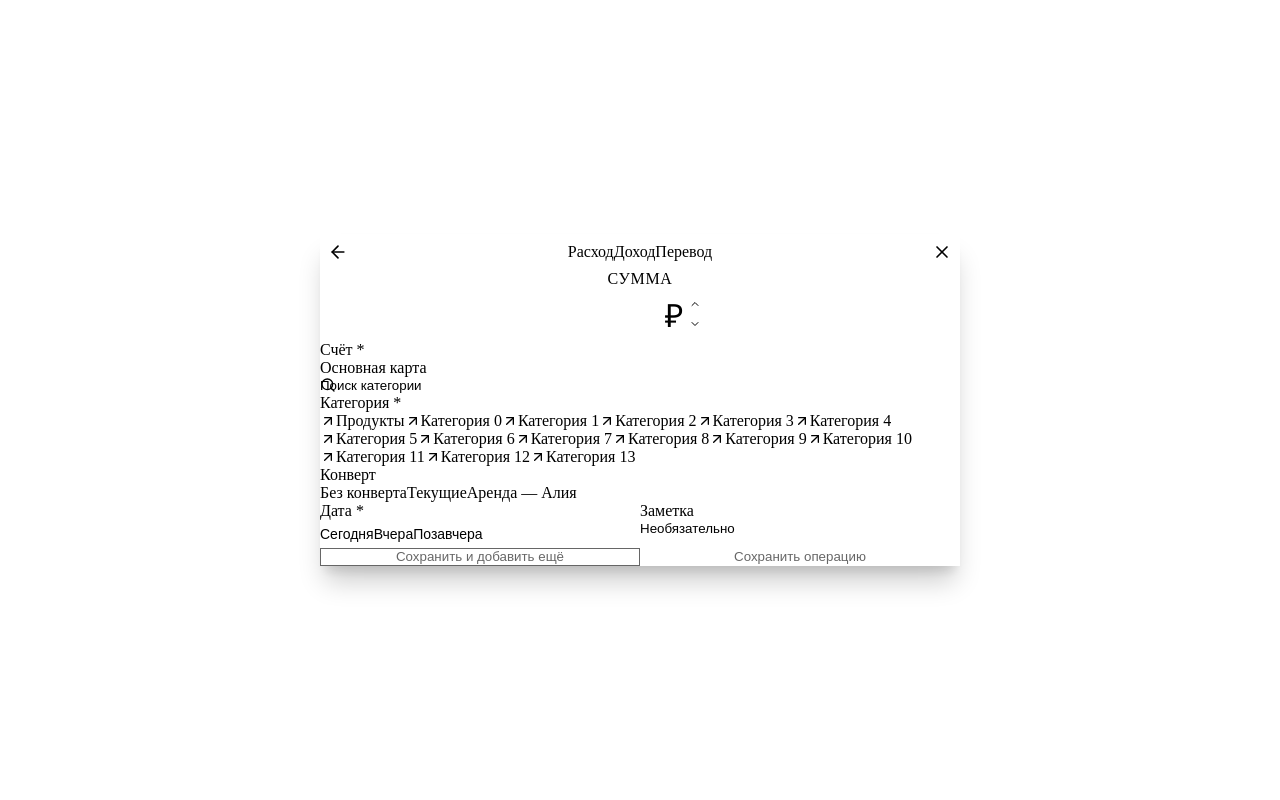
Test: AppOperationDialogs › leads with popular categories, pads with the regular list, and reaches the overflow through search
The width and height of the screenshot is (1280, 800).
Type "путешеств" into the field named "categorySearch" at {"x": 640, "y": 385}, box x1=320 y1=377 x2=960 y2=394
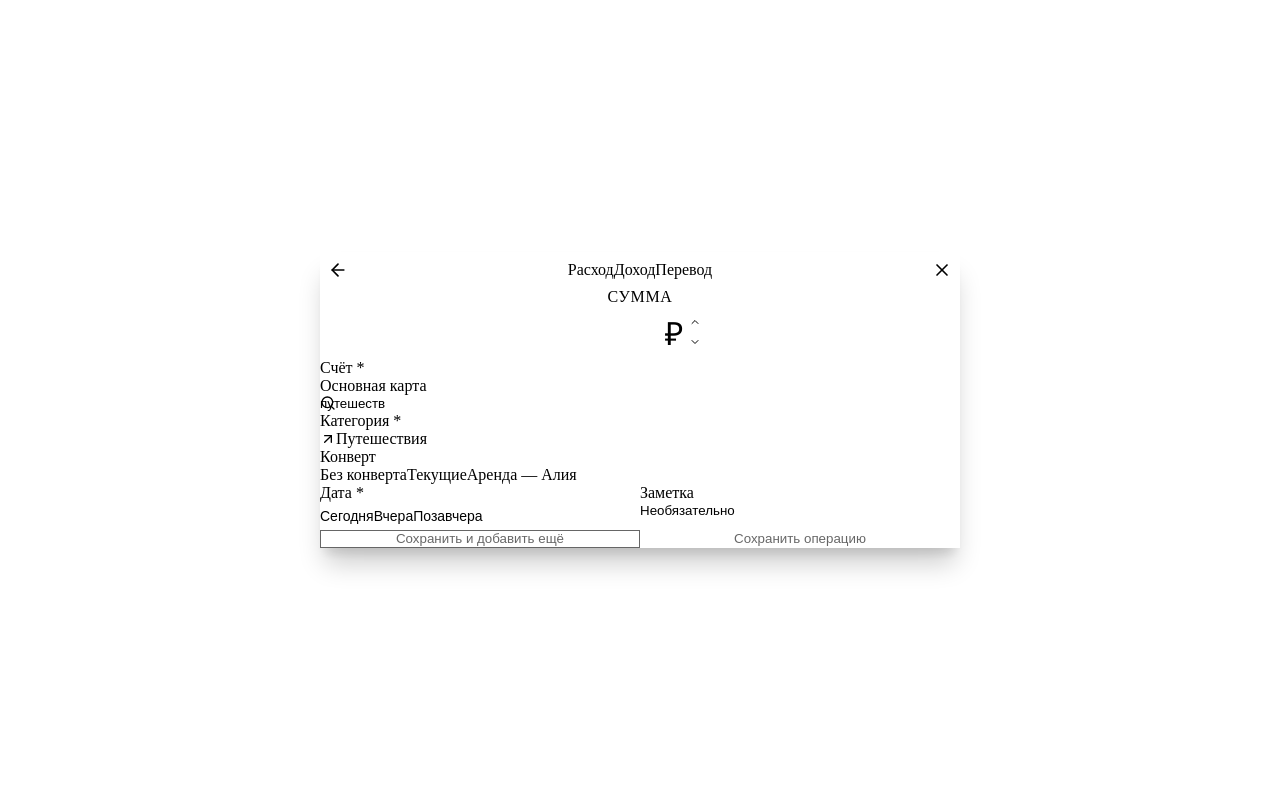
Expected: the radio button with test id "pill-category-overflow-category-id" is shown, x1=320 y1=430 x2=427 y2=448
